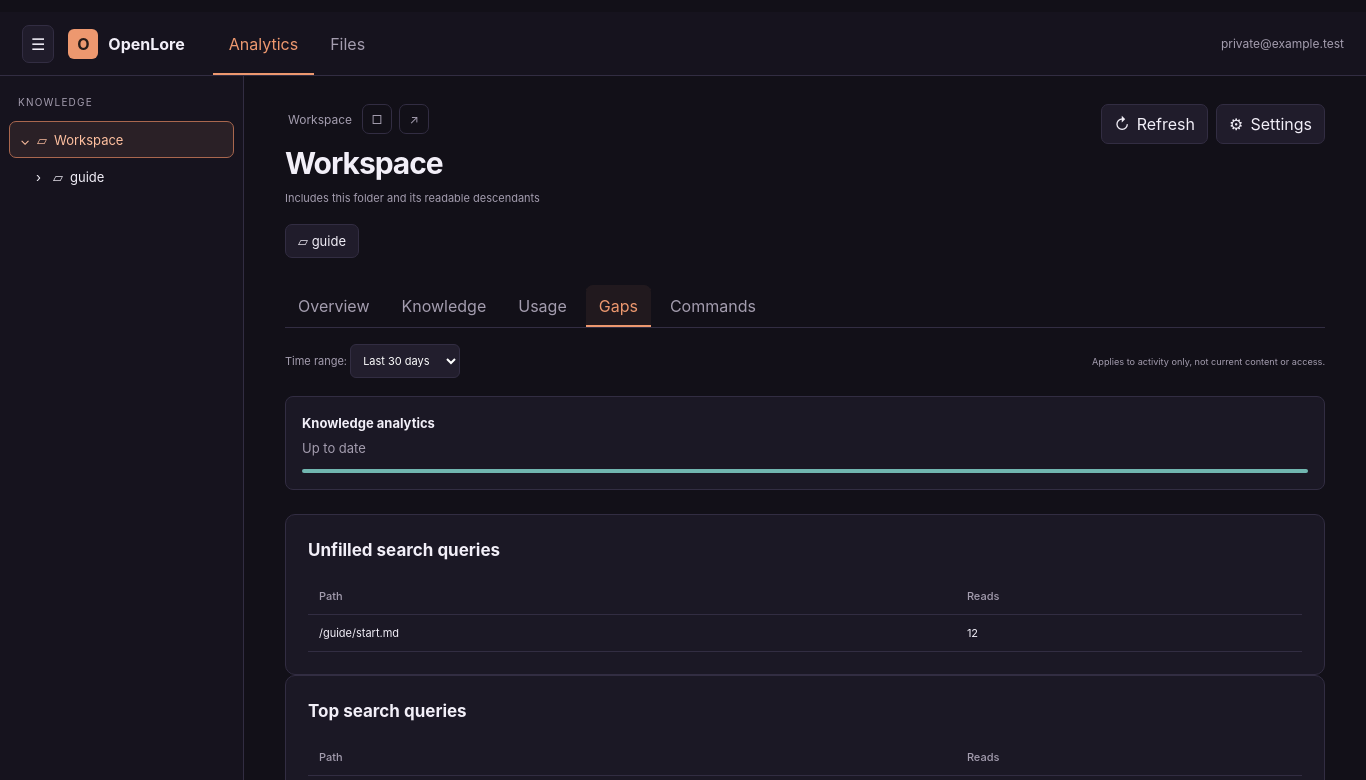
Scenario: an aggregation-only refresh recovers an expired session
Check: the heading "Top search queries" is shown, box x1=308 y1=701 x2=467 y2=721
Click the button with aria-label "Refresh analytics".
click(1155, 124)  # box x1=1102 y1=104 x2=1208 y2=144
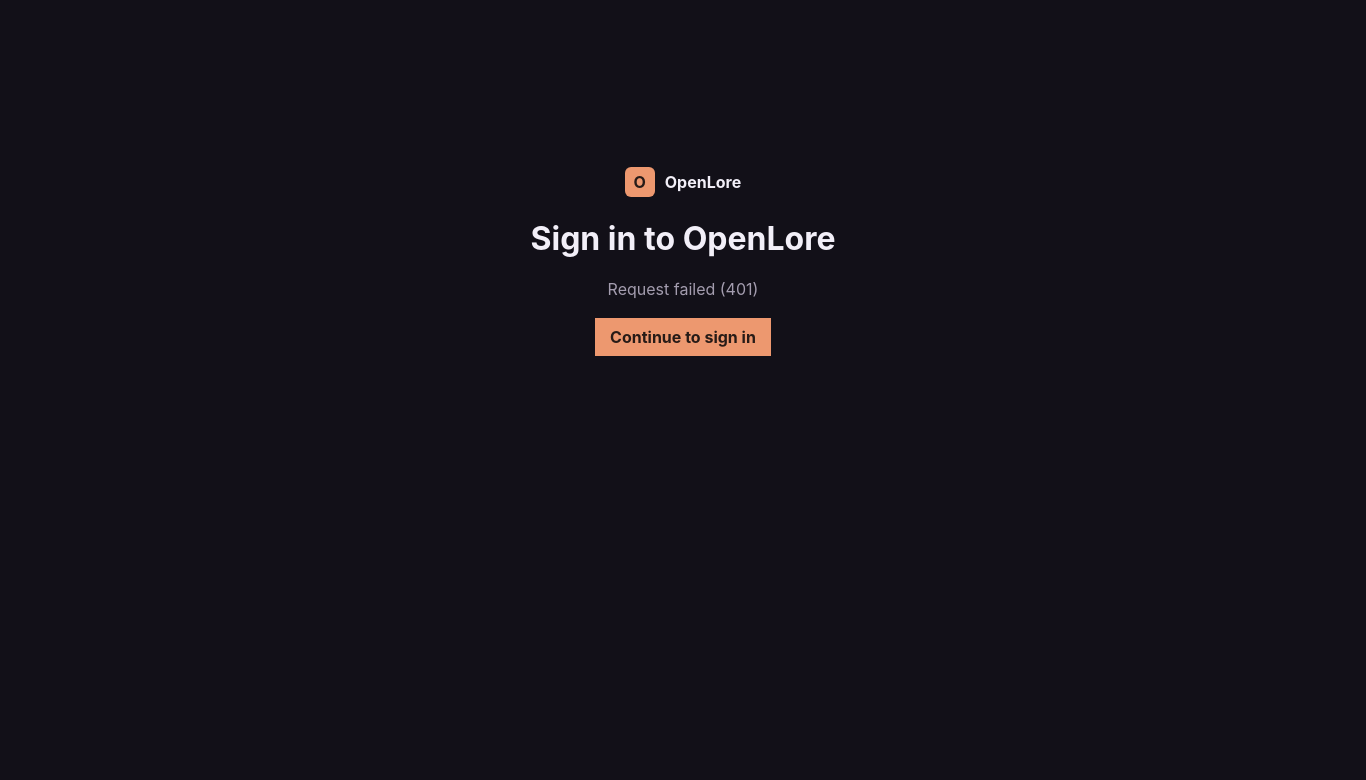
Check: the heading "Sign in to OpenLore" is shown, box x1=530 y1=219 x2=836 y2=258
Check: the heading "Top search queries" is gone
